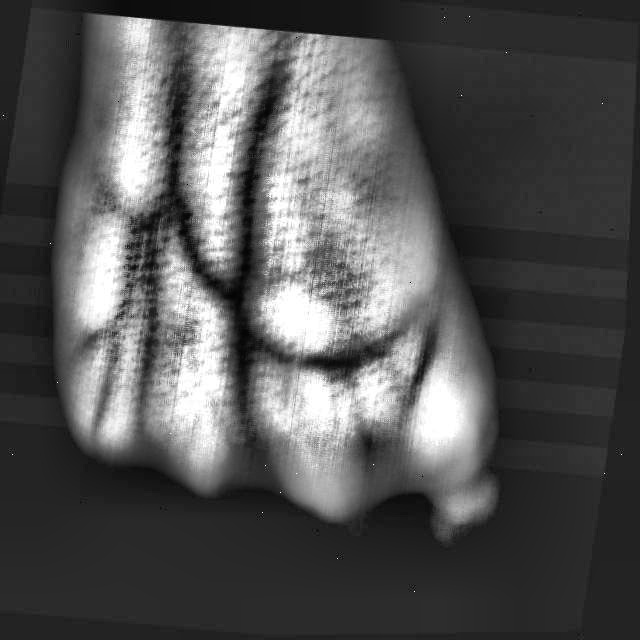Vein: (231, 75, 284, 289)
